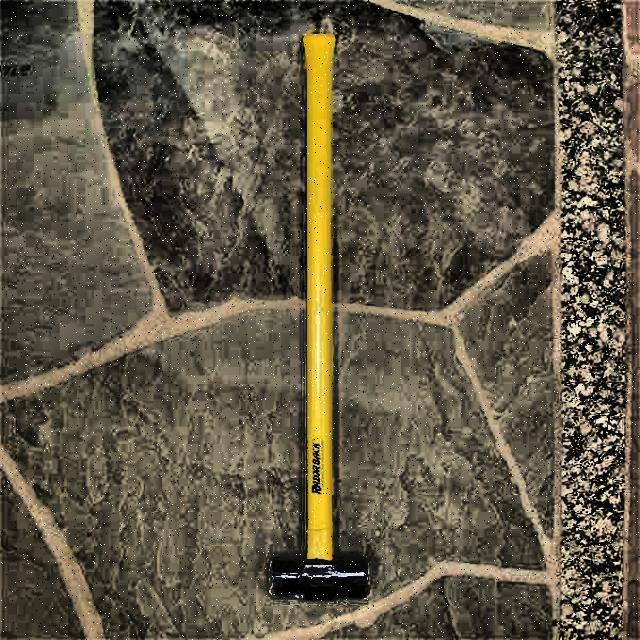hammer: (269, 31, 373, 603)
